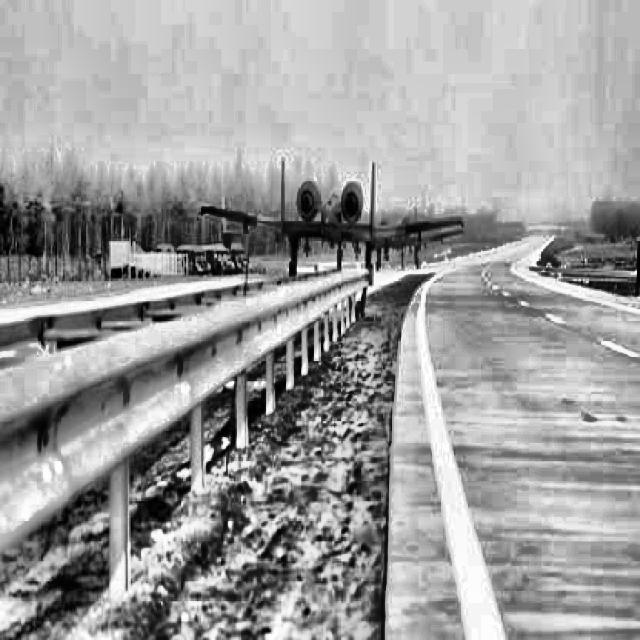A10: (199, 154, 464, 286), (374, 204, 466, 271)
